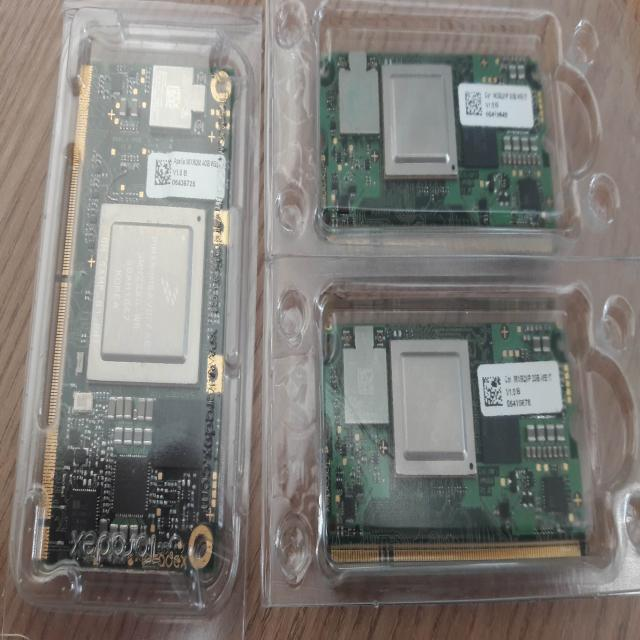som: (28, 60, 238, 577), (318, 308, 597, 565), (316, 30, 564, 235)
